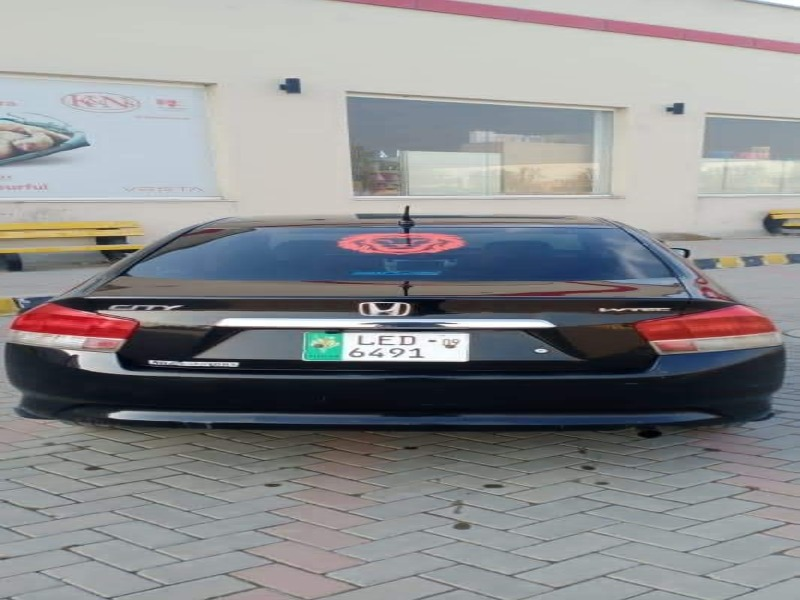License Plate: (298, 328, 472, 369)
